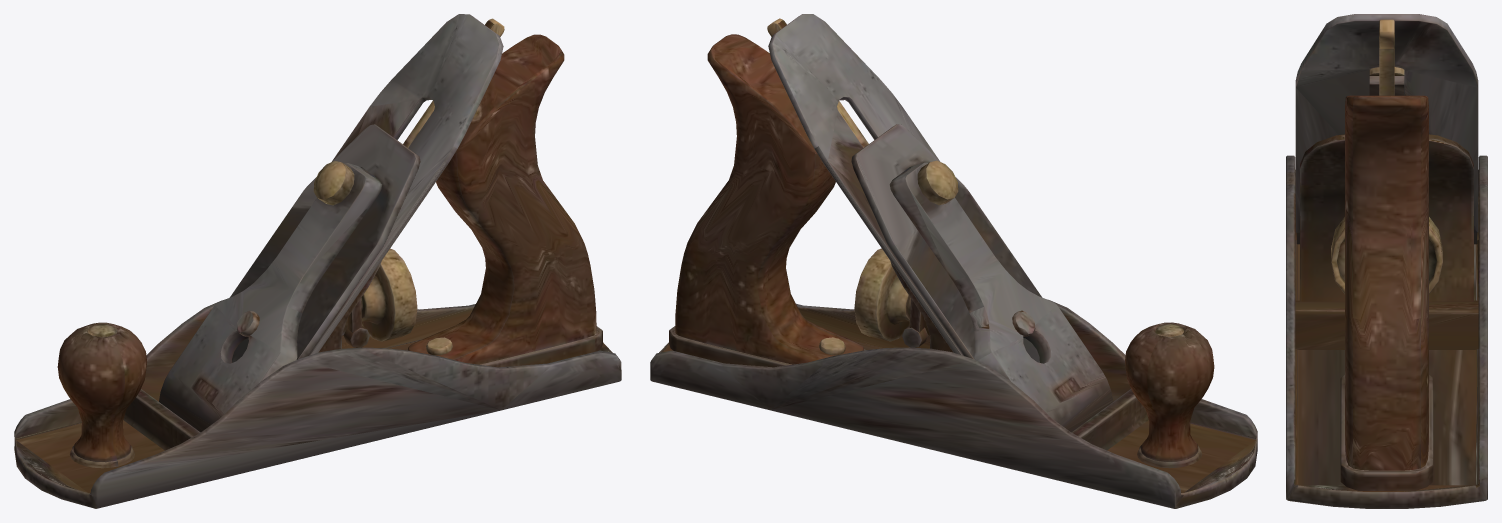
Rendered from hand-plane-no4.glb.
3 views of the same model, side by side, from view 1: azimuth 30°, elevation 25°; view 2: azimuth 150°, elevation 25°; view 3: azimuth 270°, elevation 25° (orthographic). The views are drawn at different scales.
Parts seen in each view (by area): view 1: hand_plane_no4; view 2: hand_plane_no4; view 3: hand_plane_no4.
Boxes of the visible parts, left/top/right/bottom form: hand_plane_no4: left=14, top=14, right=621, bottom=508; hand_plane_no4: left=650, top=14, right=1257, bottom=508; hand_plane_no4: left=1286, top=14, right=1487, bottom=508.
Bounding box in the file's own units: 0.3308 × 0.1978 × 0.0843.
1 material, 1 textured.
